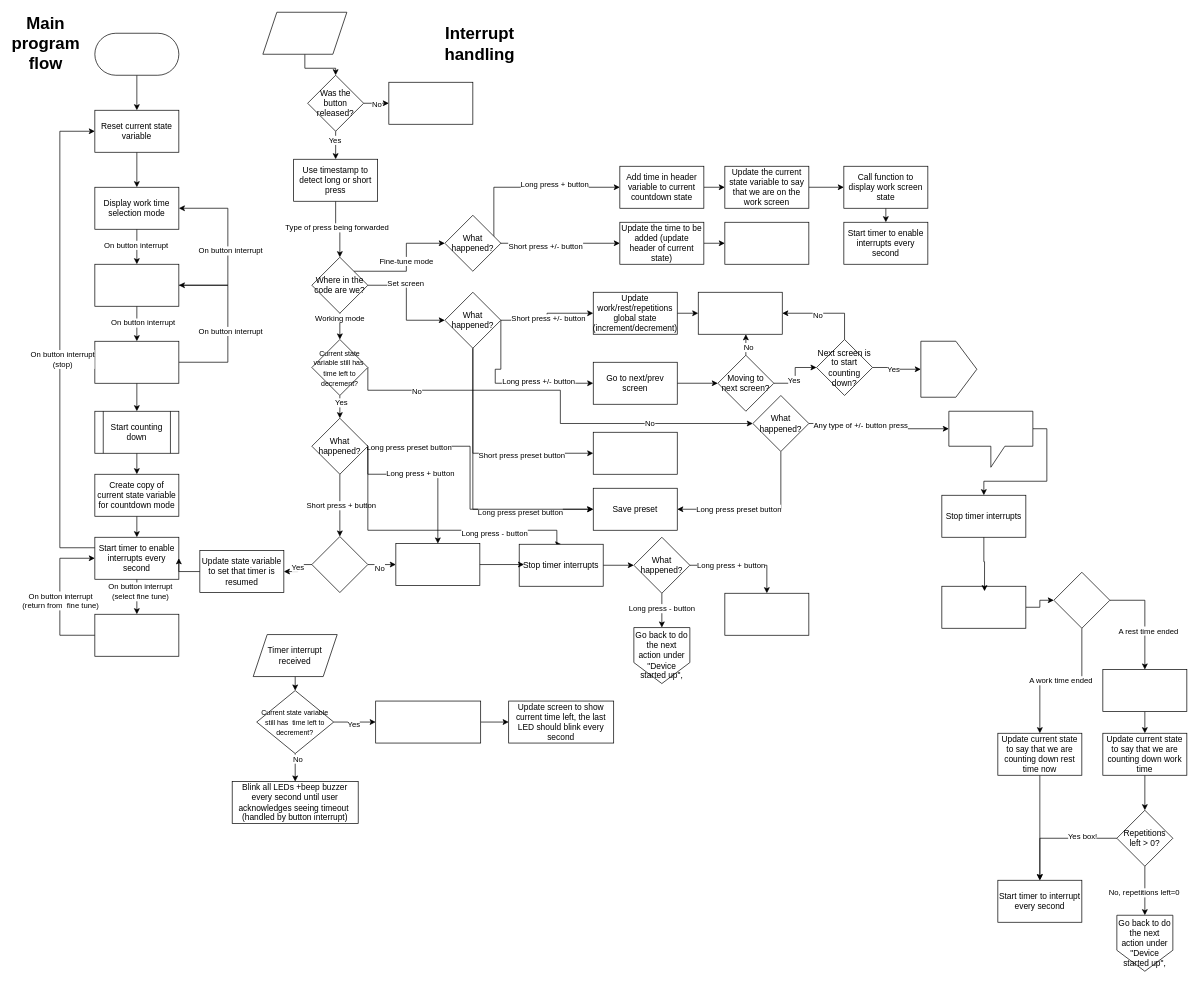
Image size: 1199x984. Some labels were removed from this diagram. The box of each missing label's shape, as (x1, y1, x2, y2) in pixels:
Button interrupt received: (262, 12, 347, 54)
Call updater function for currently shown screen: (698, 292, 782, 334)
Call updater function to update screen: (724, 222, 809, 264)
Current state is Timer paused?: (311, 536, 368, 593)
Decrement repetitions left in current state: (1102, 669, 1187, 712)
Decrement the countdown time in the current state variable with one second: (375, 700, 481, 743)
Device started up: (94, 33, 179, 75)
Display repetition selection mode: (94, 341, 179, 383)
Display rest time selection mode: (94, 264, 179, 306)
Enter "fine tune mode": (724, 593, 809, 635)
Go to "fine tune mode": (94, 614, 179, 656)
Load preset: (593, 432, 677, 474)
See "start counting down": (920, 341, 977, 397)
Start keeping track of timestamp to detect long/short press: (388, 82, 473, 124)
Turn off all lights on screen: (941, 586, 1026, 628)
Update state variable to set that timer is paused: (395, 543, 480, 586)
User has confirmed that they have seen that the timer is ended: (948, 411, 1033, 467)
What type of timeout just occurred?: (1053, 572, 1110, 628)
